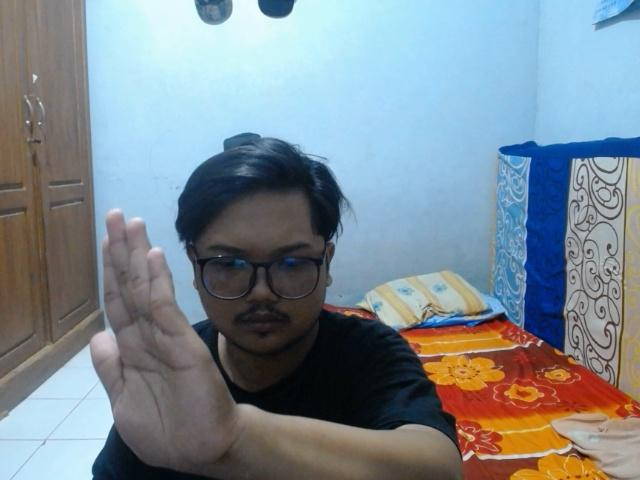Release: (82, 202, 243, 479)
